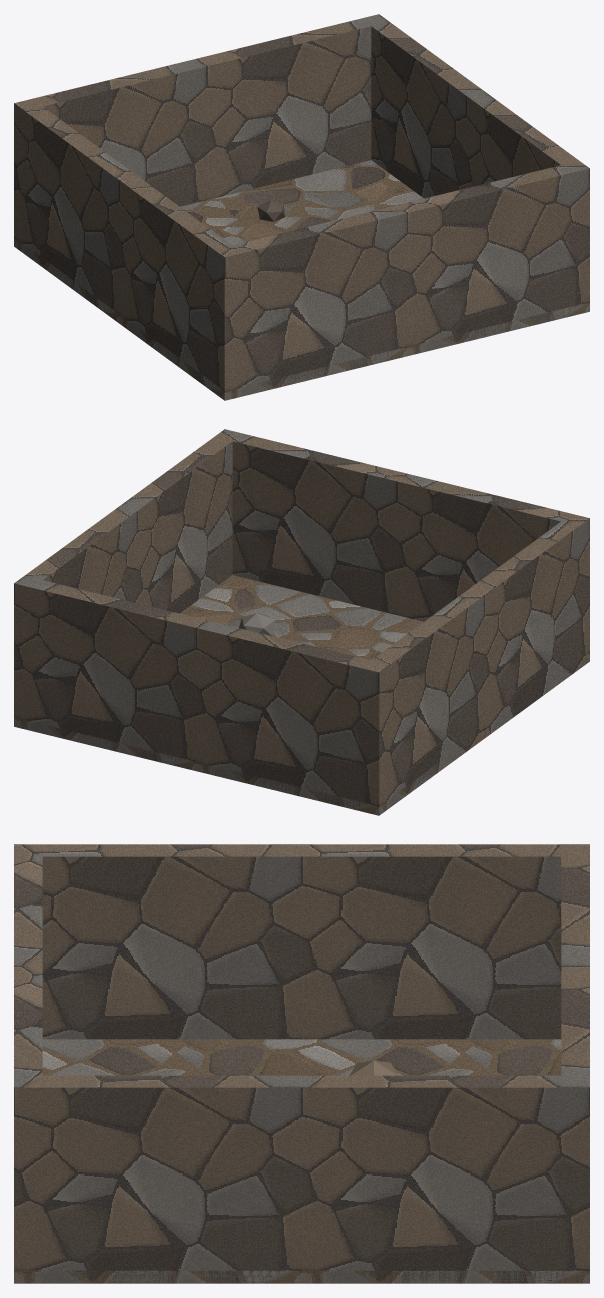
Rendered from mine_floor_pit.glb.
3 renders of one model, top to bottom at view 1: azimuth 30°, elevation 25°; view 2: azimuth 150°, elevation 25°; view 3: azimuth 270°, elevation 25°, orthographic. The views are drawn at different scales.
Visible parts, largest first — view 1: mine_floor_pit; view 2: mine_floor_pit; view 3: mine_floor_pit.
Boxes of the visible parts, x1=… form: mine_floor_pit: x1=14, y1=14, x2=589, y2=400; mine_floor_pit: x1=14, y1=429, x2=589, y2=815; mine_floor_pit: x1=14, y1=844, x2=589, y2=1283.
Size of what is drawn, in the model's own units: 4 by 1.5 by 4.
Materials: 5 (2 with a texture image).
